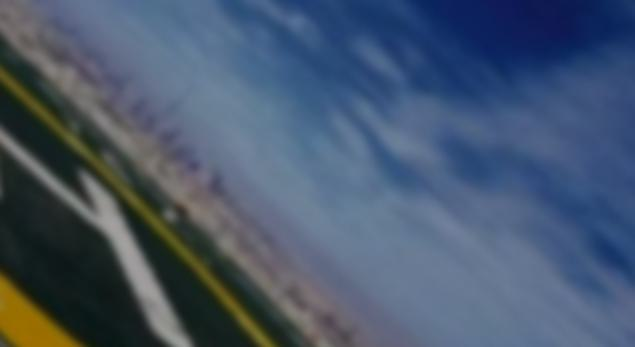Apron: (1, 58, 356, 347)
